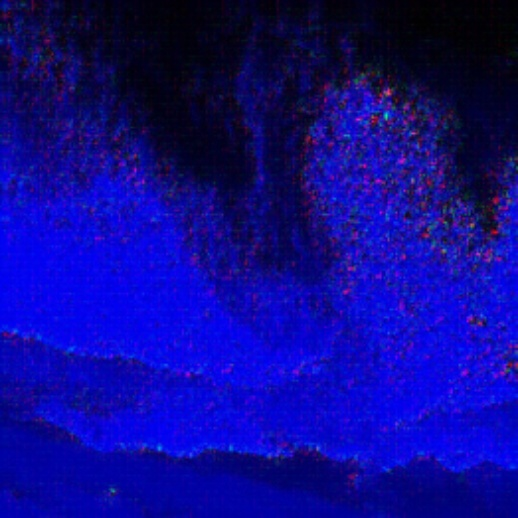rip_current: (150, 65, 364, 371)
